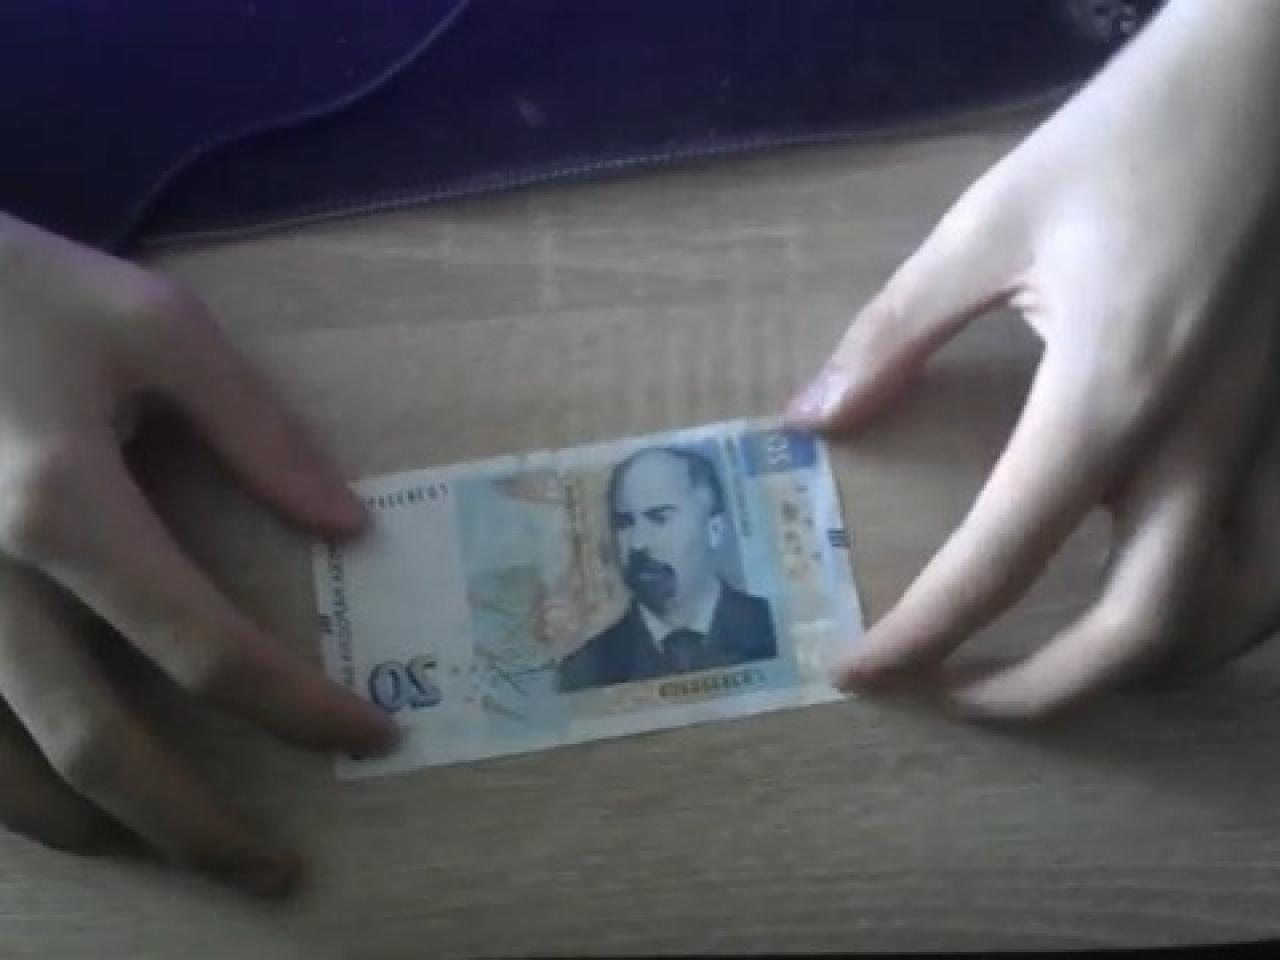20leva: (551, 440, 781, 696)
